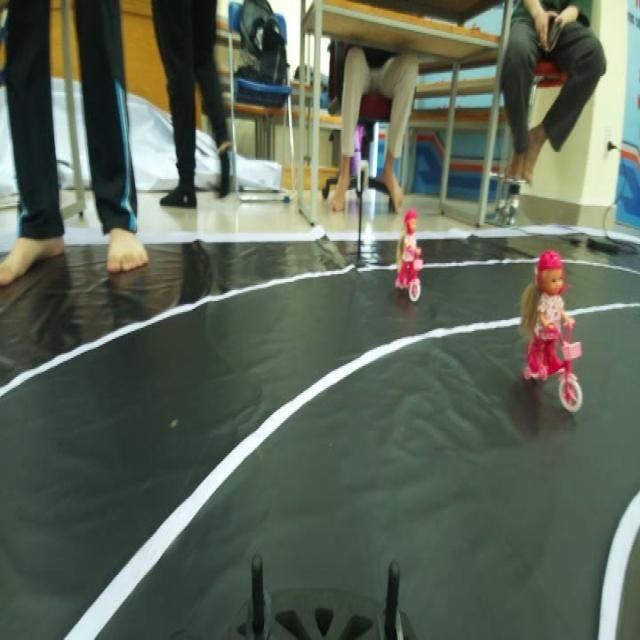pedestrian: (514, 238, 586, 424), (392, 201, 429, 306)
